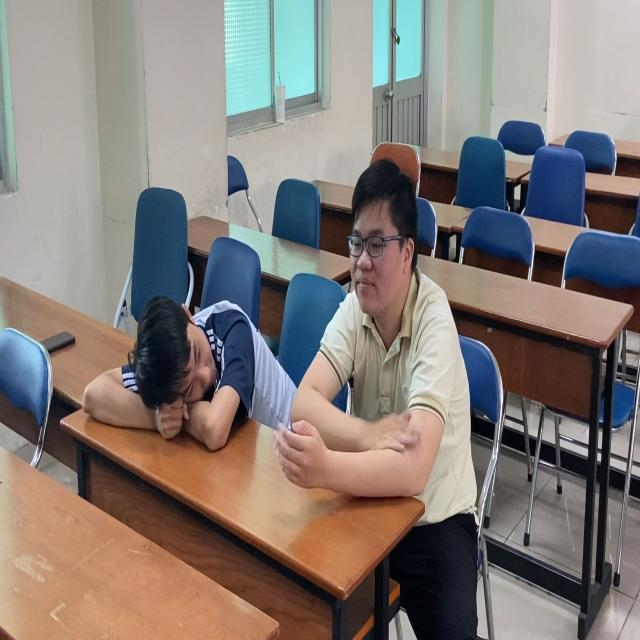sleep: (80, 292, 290, 466)
